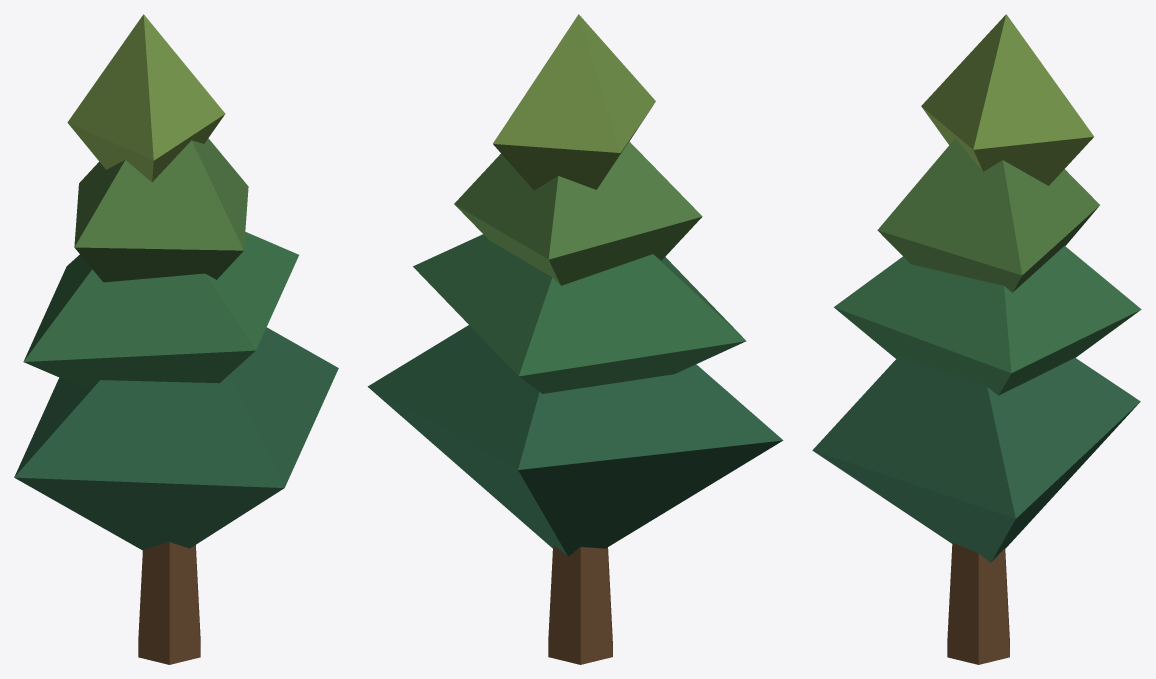
Rendered from tree-pine-canopy-3.gltf.
3 views of the same model, side by side, from view 1: azimuth 30°, elevation 25°; view 2: azimuth 150°, elevation 25°; view 3: azimuth 270°, elevation 25° (orthographic). The views are drawn at different scales.
Visible parts, largest first — view 1: tree-pine-canopy-3; view 2: tree-pine-canopy-3; view 3: tree-pine-canopy-3.
Boxes of the visible parts, <box> form: tree-pine-canopy-3: <box>14,14,338,664</box>; tree-pine-canopy-3: <box>367,14,783,664</box>; tree-pine-canopy-3: <box>812,14,1141,664</box>.
Size of the model in its own units: 1.14 by 1.87 by 0.8885.
